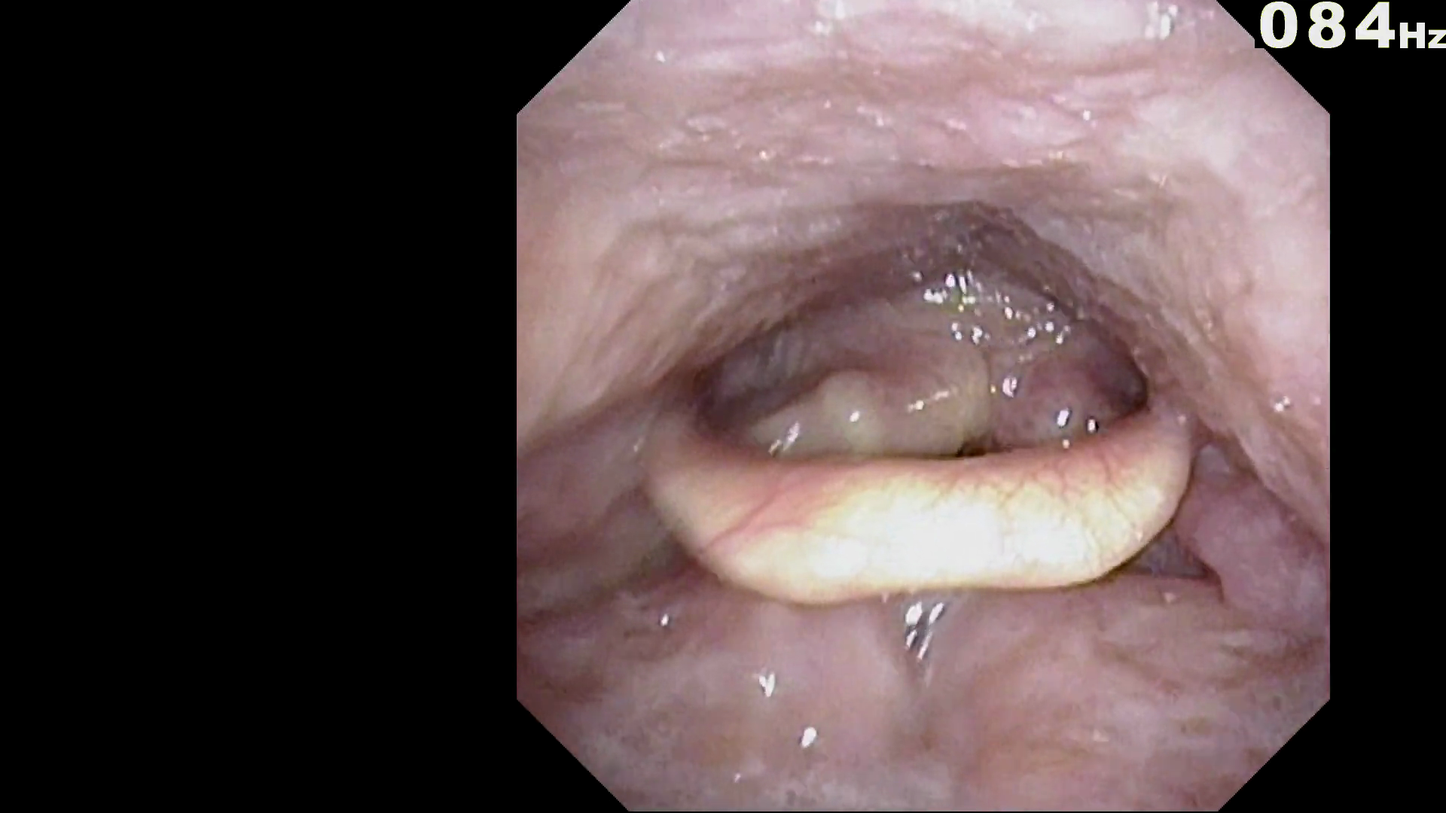epiglottis: (623, 349, 1220, 643)
trachea: (941, 404, 1025, 495)
